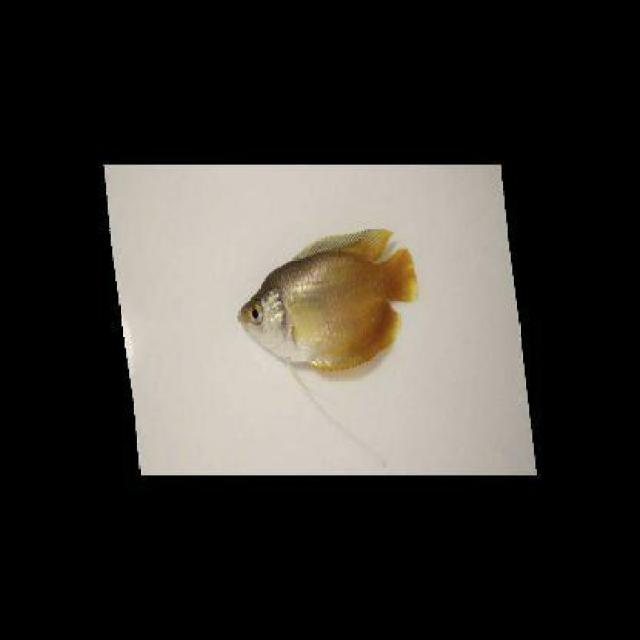Gourami: (240, 225, 418, 368)
